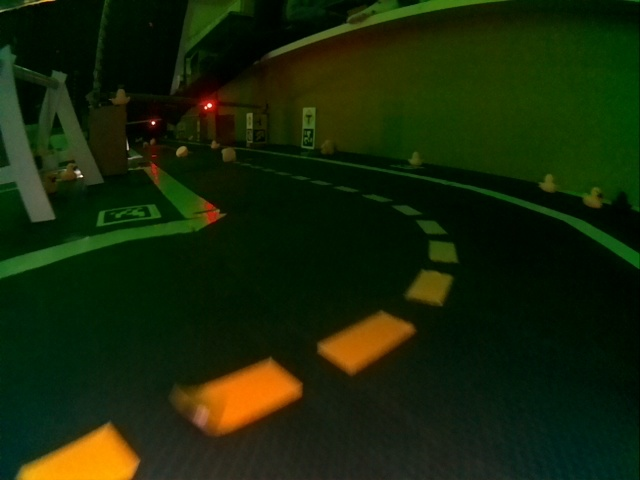Duckie: (110, 89, 130, 104), (539, 175, 556, 192), (61, 163, 78, 177), (43, 174, 57, 191), (223, 147, 236, 160), (410, 151, 420, 165), (321, 141, 331, 154), (176, 147, 186, 155), (211, 142, 220, 150)
Intersection sign: (303, 111, 315, 124)
QR code: (99, 205, 160, 223), (302, 130, 314, 146)
